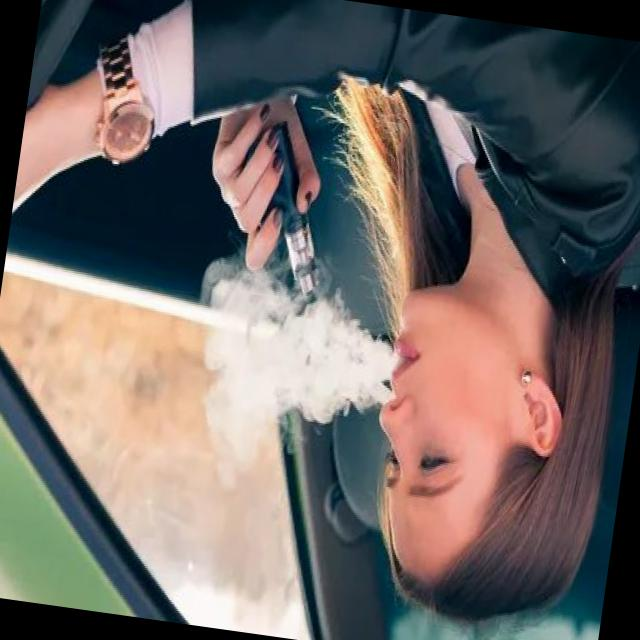cigarette: (235, 115, 350, 312)
